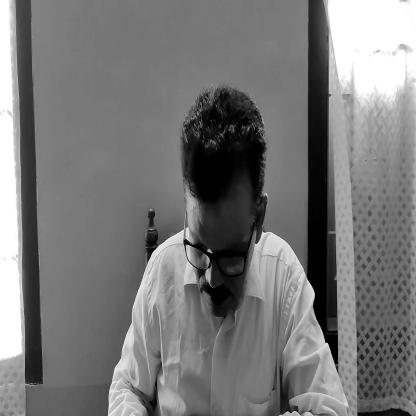Normal: (176, 89, 269, 343)
